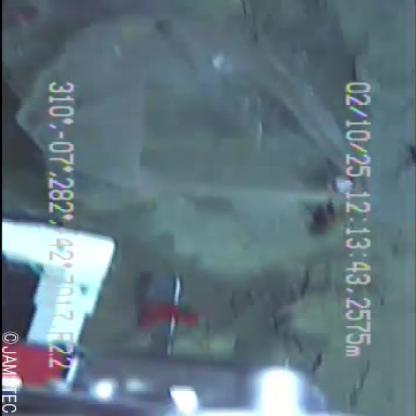Rov: (1, 212, 362, 415)
Rác: (1, 1, 374, 223)
